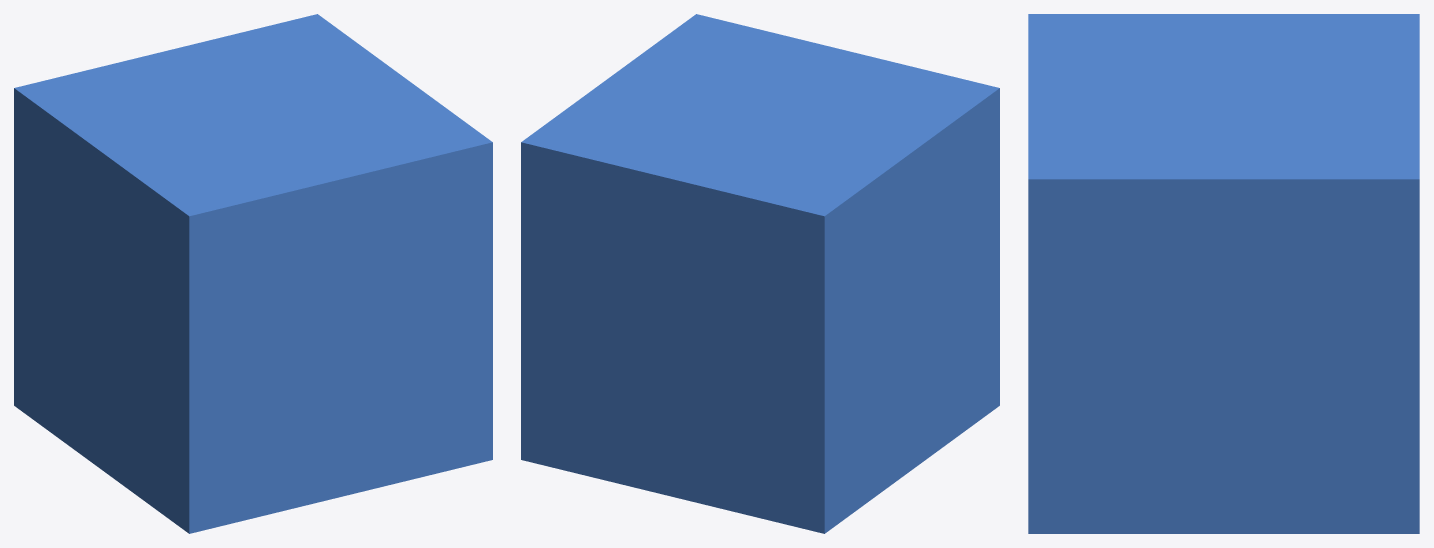
3 views of the same model, side by side, from view 1: azimuth 30°, elevation 25°; view 2: azimuth 150°, elevation 25°; view 3: azimuth 270°, elevation 25° (orthographic). The views are drawn at different scales.
Parts seen in each view (by area): view 1: Box001; view 2: Box001; view 3: Box001.
Part boxes in pixels (x1,y1,x2,y2): Box001: (14,14,492,533); Box001: (521,14,999,533); Box001: (1028,14,1419,533).
Size of the model in its own units: 41.34 by 41.34 by 41.34.
